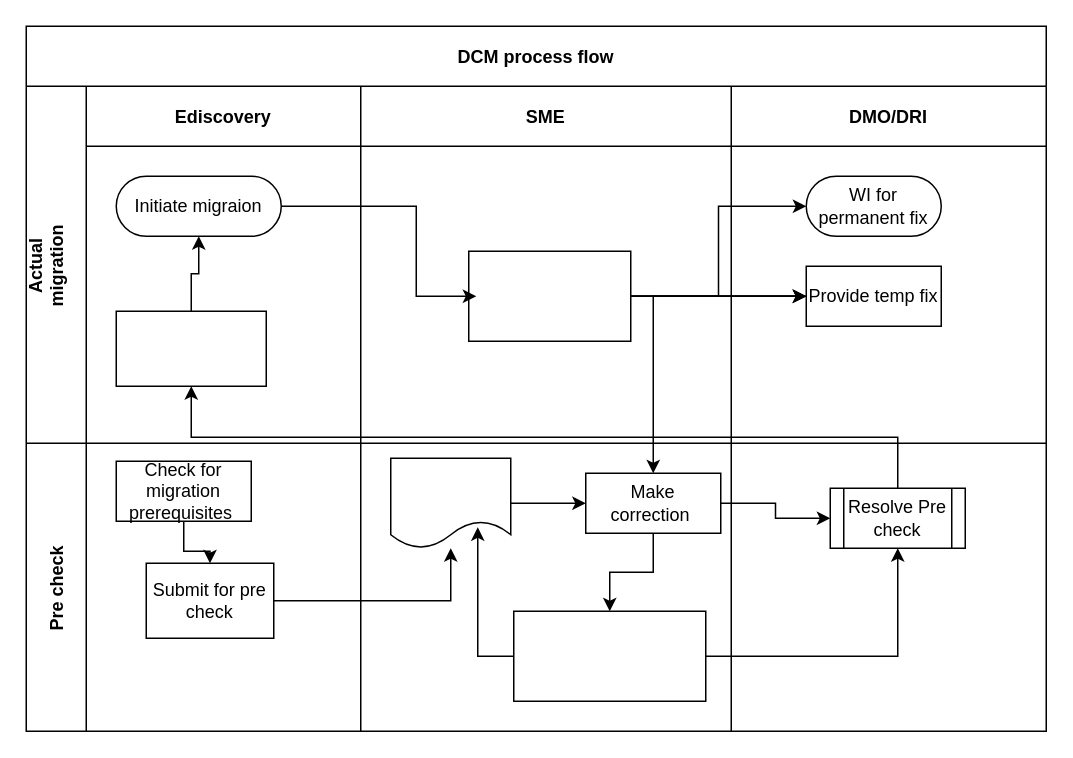
The diagram is 1073 pixels wide and 758 high, and some of its shapes have lost their labels. Here are the shapes that lost their labels. From the top down, the centre of each, then its label:
At point 549,295: "Validate logs and push to DRI".
At point 190,348: "Validate all the pre check changes are done.".
At point 450,502: "Try migrating with the mock tool".
At point 609,655: "Identify module issue and push it to DRI".
